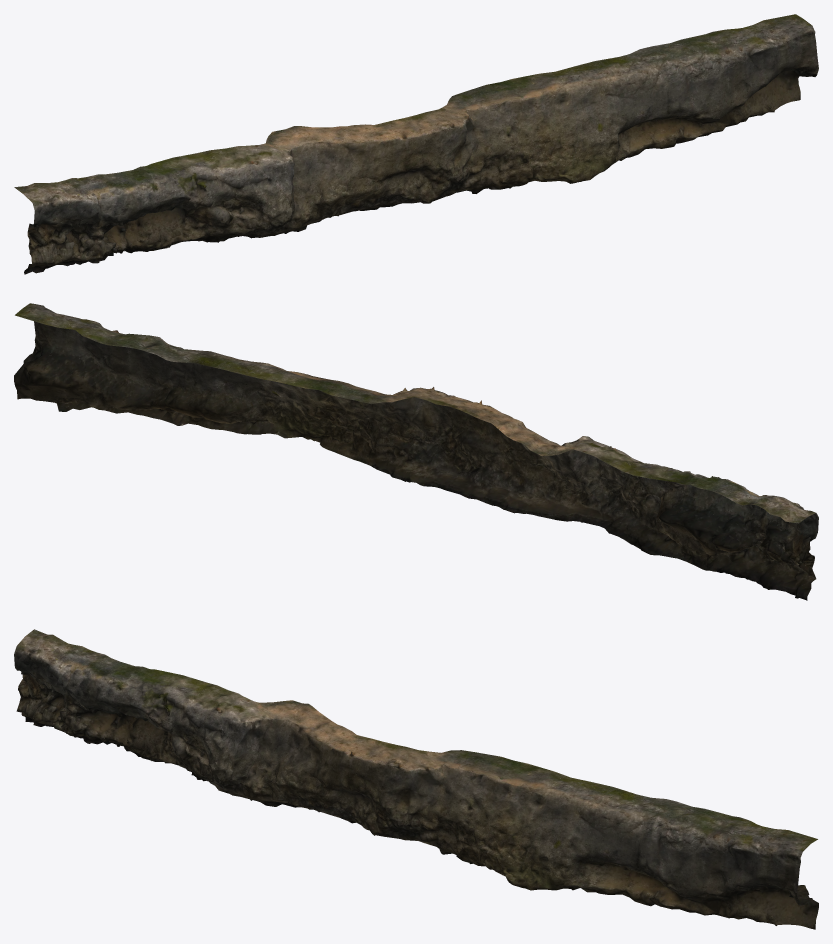
Rendered from coastal_cliff_01.glb.
3 views of the same model, one above another, from view 1: azimuth 30°, elevation 25°; view 2: azimuth 150°, elevation 25°; view 3: azimuth 330°, elevation 25° (orthographic). The views are drawn at different scales.
Parts seen in each view (by area): view 1: coastal_cliff_01; view 2: coastal_cliff_01; view 3: coastal_cliff_01.
Part boxes in pixels (box(x1,y1,x2,y2)): coastal_cliff_01: box(14, 14, 818, 274); coastal_cliff_01: box(14, 303, 818, 600); coastal_cliff_01: box(14, 629, 818, 929).
Size of the model in its own units: 91.94 by 10.26 by 10.92.
Materials: 1 (1 with a texture image).
